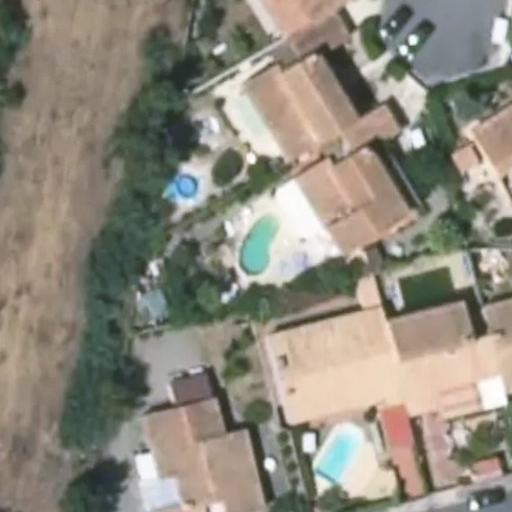pool: (236, 212, 282, 276), (311, 426, 361, 484), (176, 174, 197, 198)
